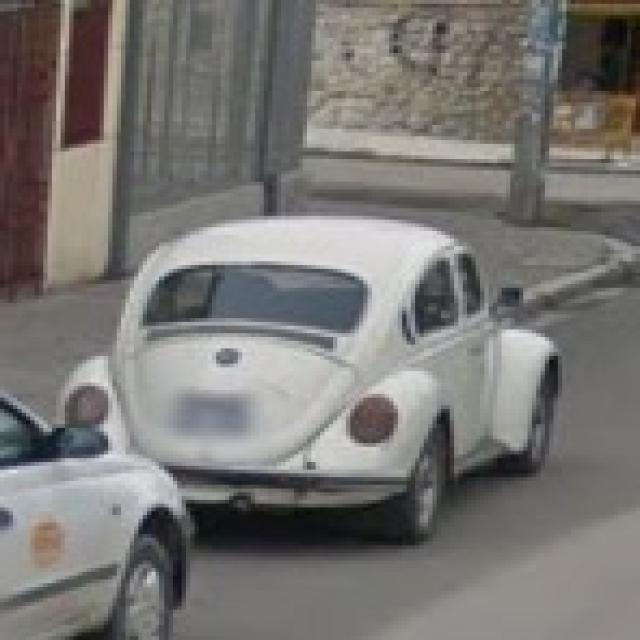car: (63, 214, 562, 543), (1, 389, 194, 639)
